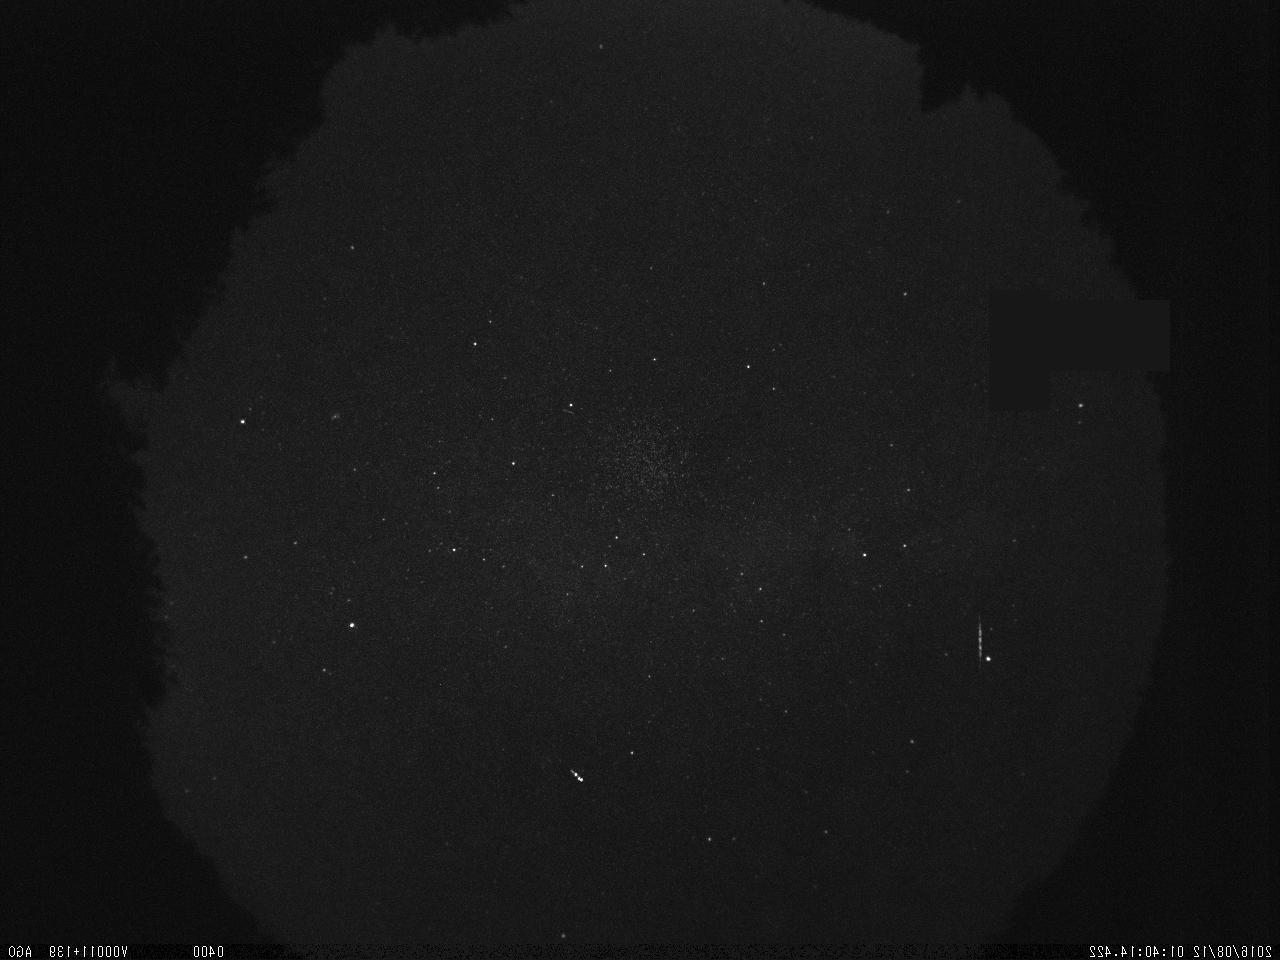meteor: (971, 604, 989, 679)
